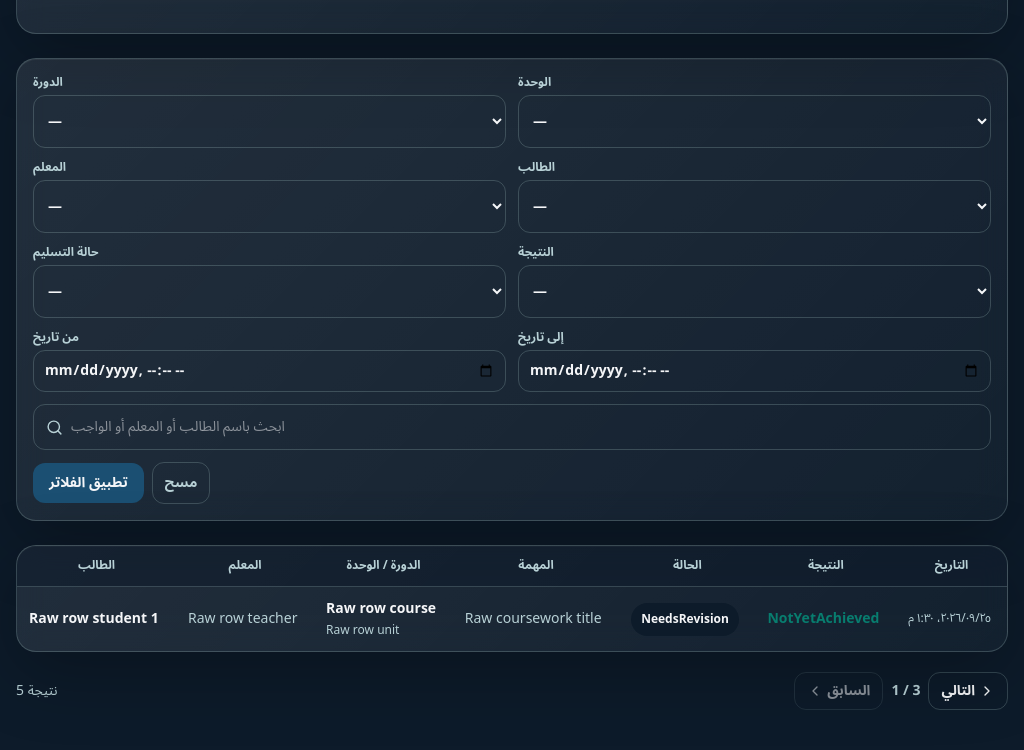
Test: Gradebook ar — MOCKED UI-CONTRACT EVIDENCE › computes page count from SERVER pageSize, keeps bounded Previous/Next transitions and applies back to page one
(page scrolled)
Expected: the button "السابق" is disabled, top-left (794, 672), bottom-right (883, 710)
Expected: the text "1 / 3" is shown, top-left (891, 681), bottom-right (920, 701)
Click the button "التالي" at point(968, 691), box top-left (928, 672), bottom-right (1008, 710)
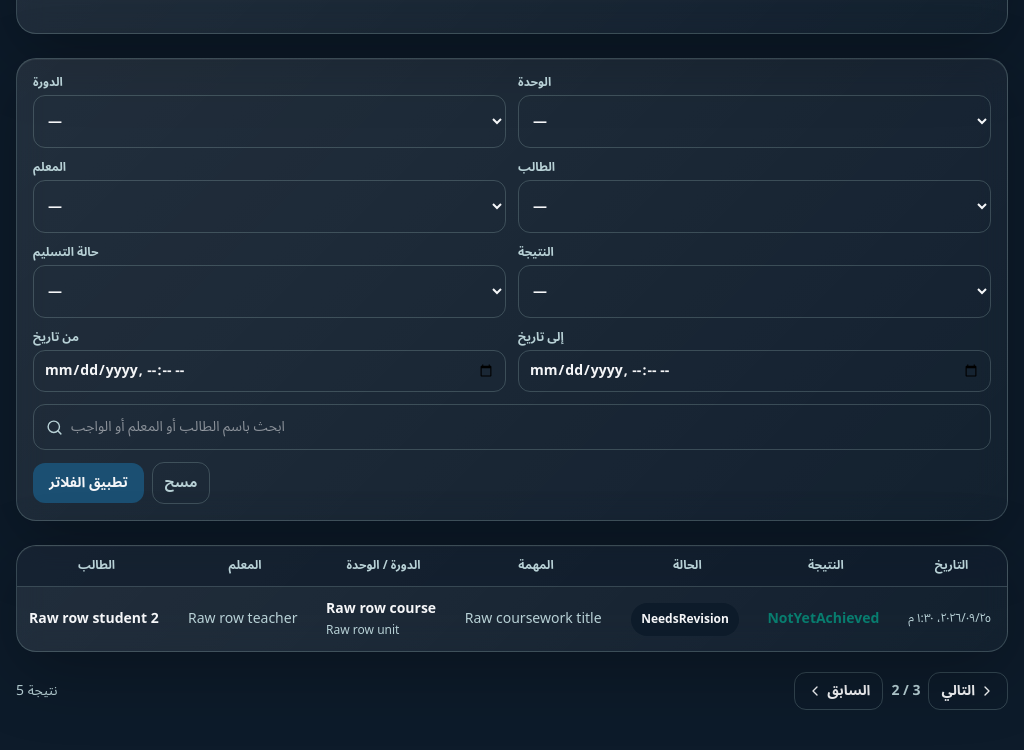
Expected: the text "Raw row student 2" is shown, top-left (17, 586), bottom-right (176, 651)
Expected: the button "السابق" is enabled, top-left (794, 672), bottom-right (883, 710)
Expected: the text "2 / 3" is shown, top-left (891, 681), bottom-right (920, 701)
Click the button "التالي" at point(968, 691), box top-left (928, 672), bottom-right (1008, 710)
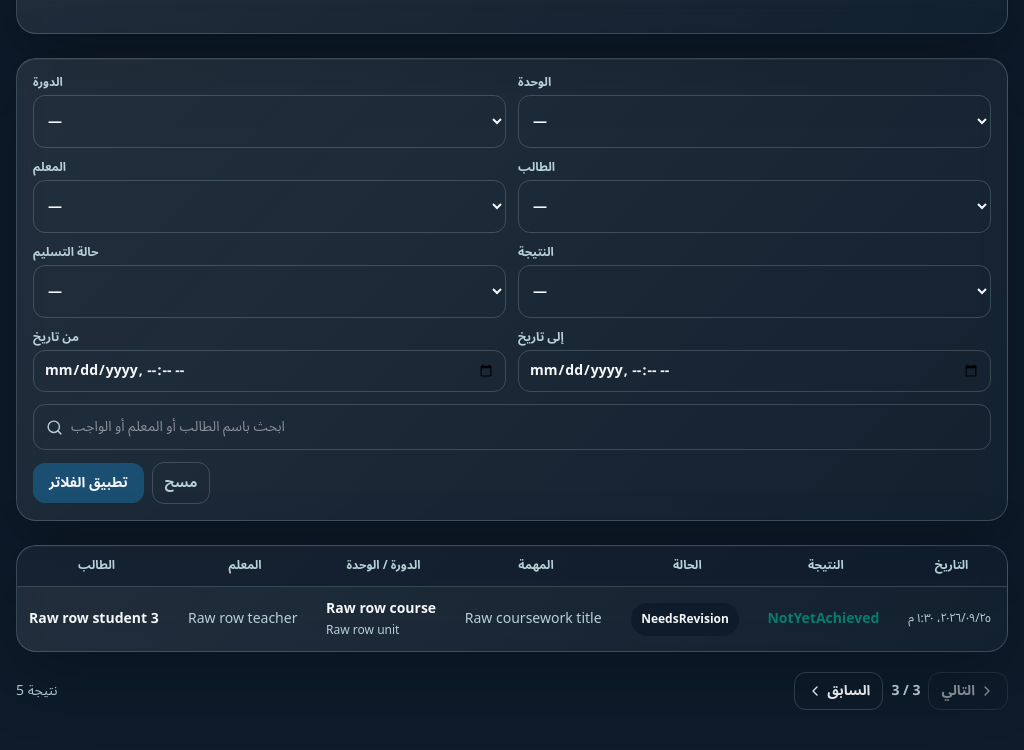
Expected: the text "Raw row student 3" is shown, top-left (17, 586), bottom-right (176, 651)
Expected: the button "التالي" is disabled, top-left (928, 672), bottom-right (1008, 710)
Expected: the text "3 / 3" is shown, top-left (891, 681), bottom-right (920, 701)
Click the button "السابق" at point(839, 691), box top-left (794, 672), bottom-right (883, 710)
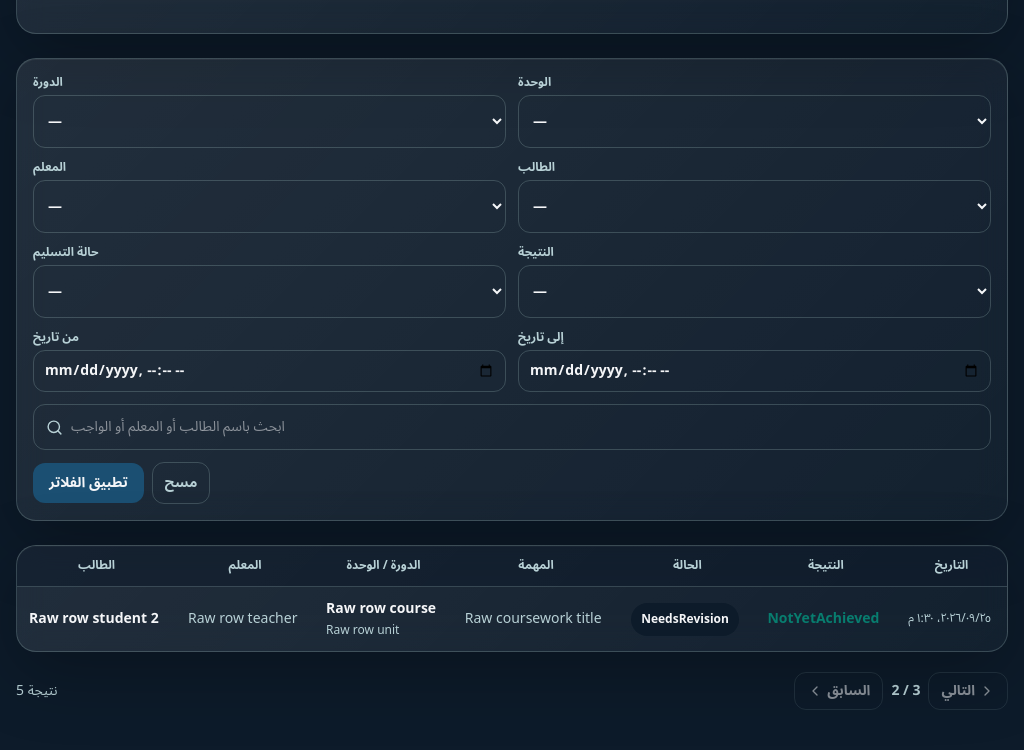
Expected: the text "Raw row student 2" is shown, top-left (17, 586), bottom-right (176, 651)
Select "Pass" in the dropdown labelled "النتيجة" at point(754, 292), box top-left (518, 265), bottom-right (991, 318)
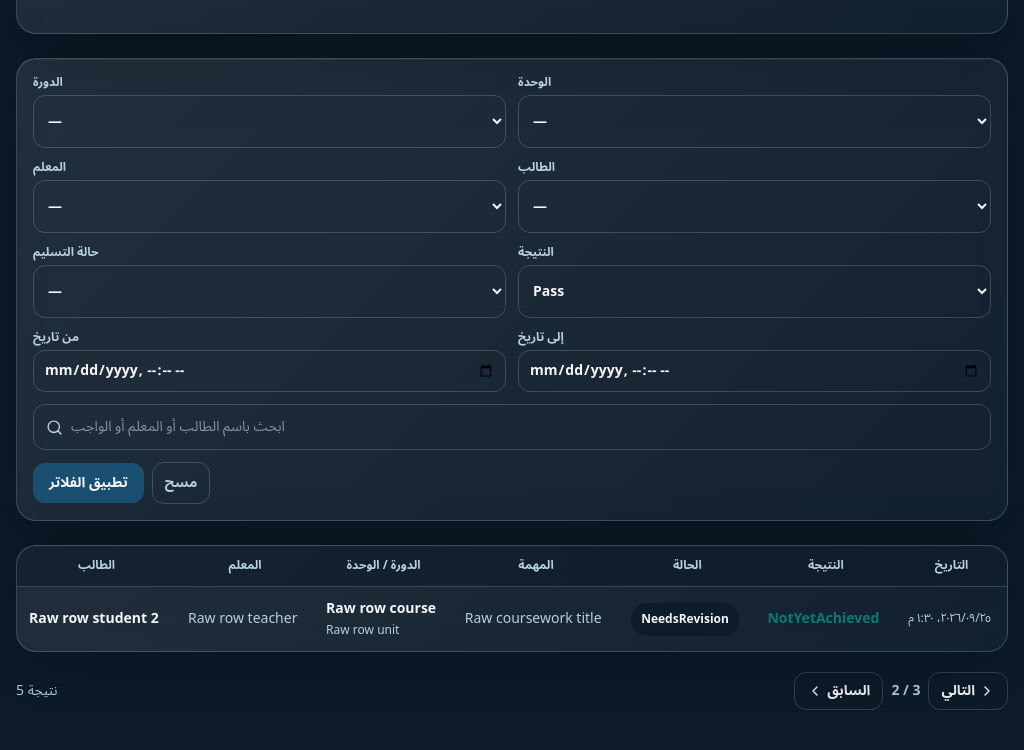
Submit the form named "تطبيق الفلاتر", box top-left (16, 58), bottom-right (1008, 521)
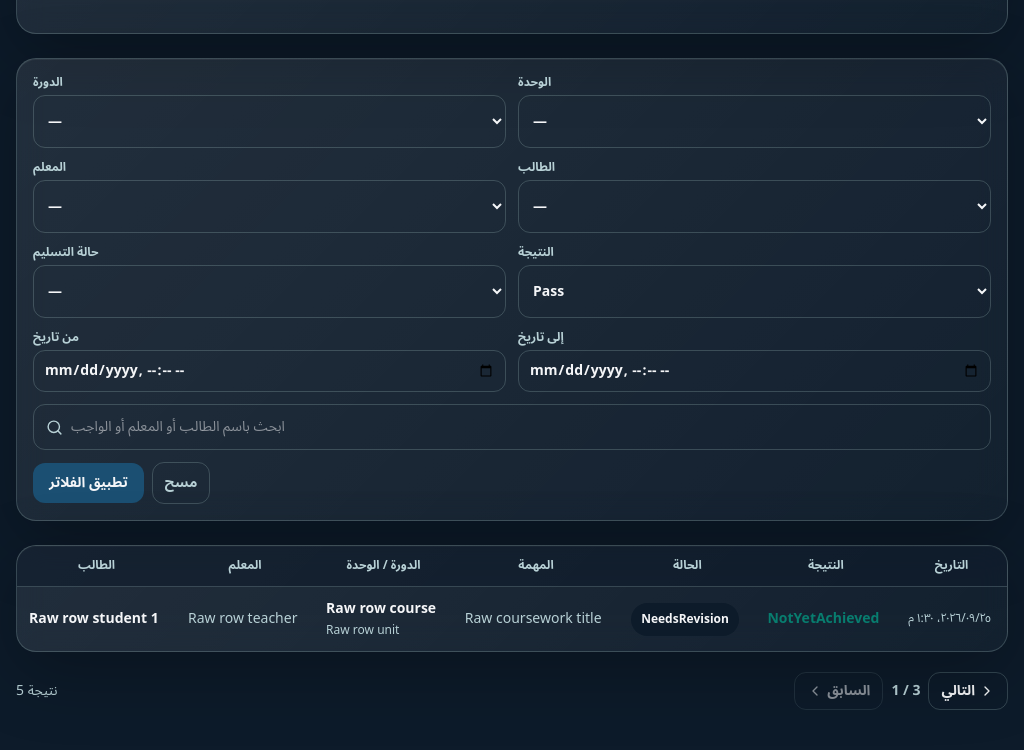
Expected: the text "Raw row student 1" is shown, top-left (17, 586), bottom-right (176, 651)
Expected: the button "السابق" is disabled, top-left (794, 672), bottom-right (883, 710)
